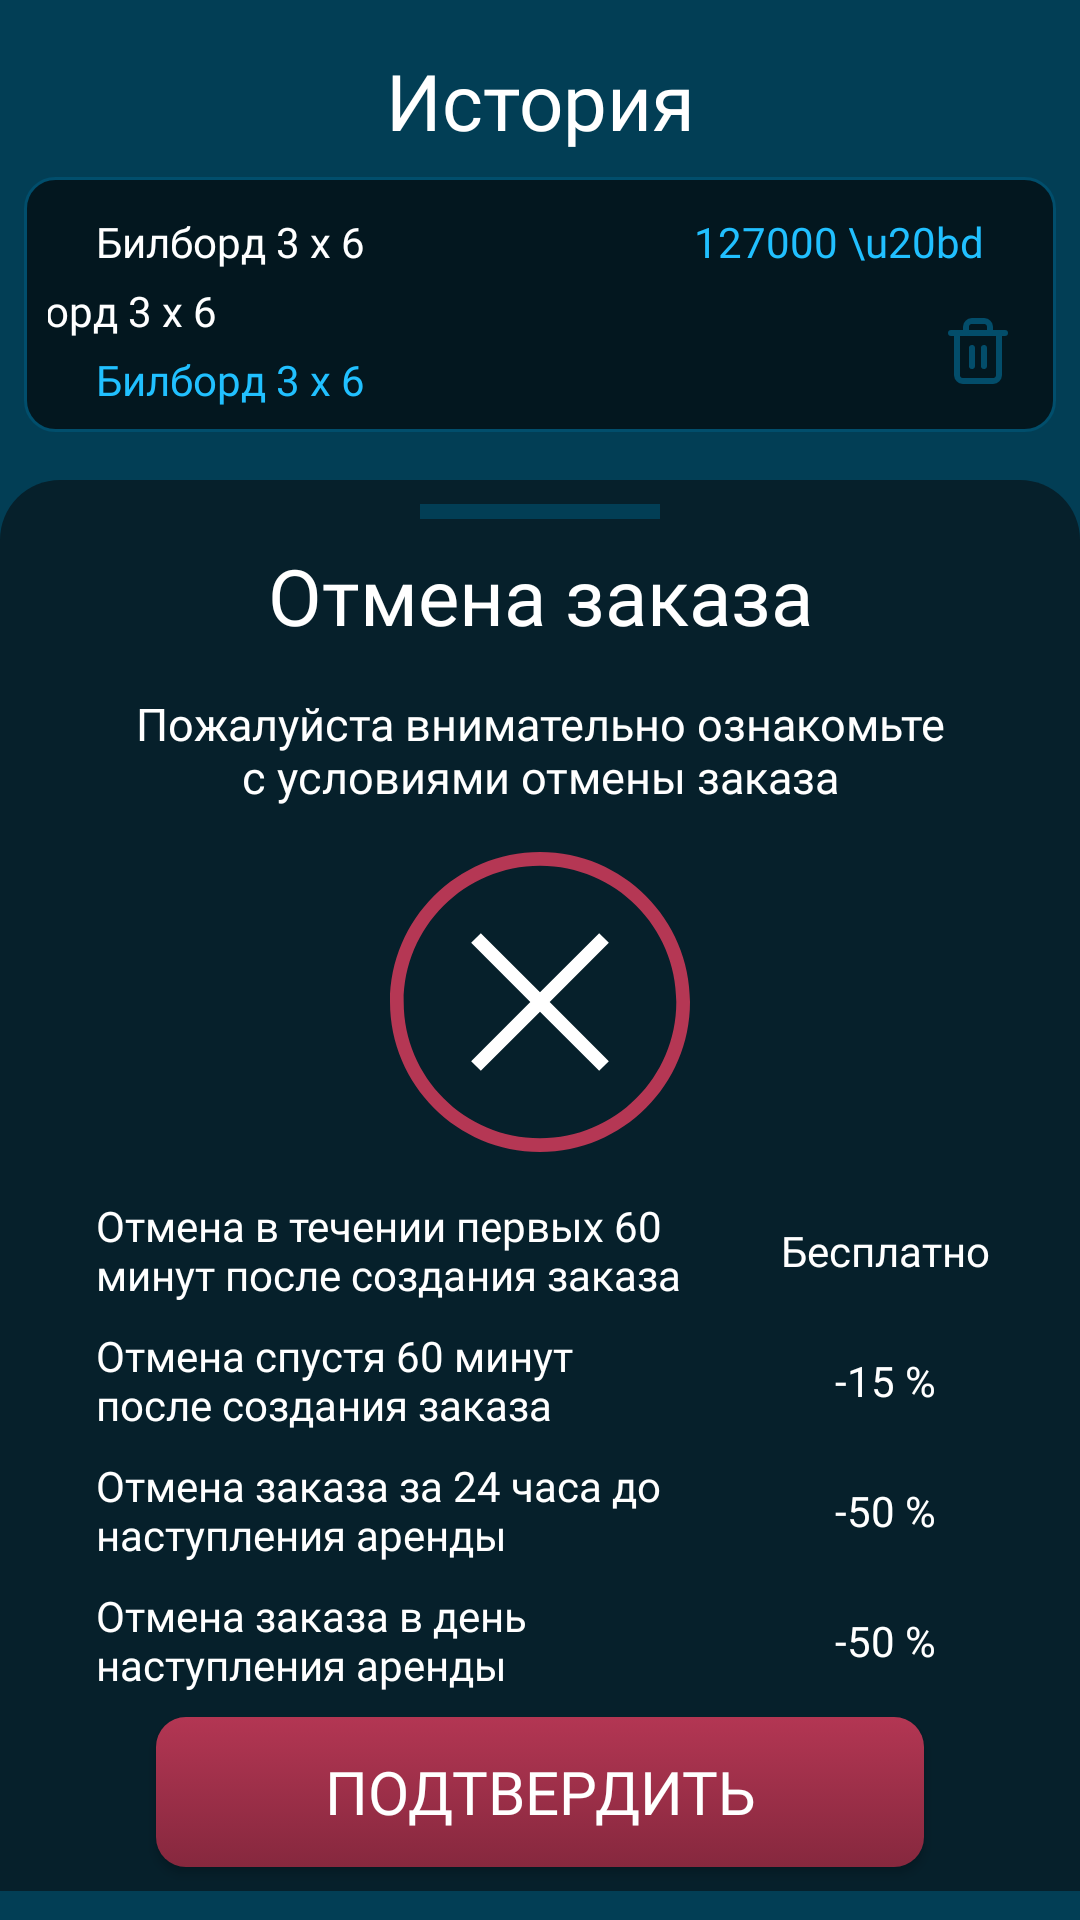

Icon click points for this 1080×1920 phone screenshot, format (x,y):
trash: (978,351)
